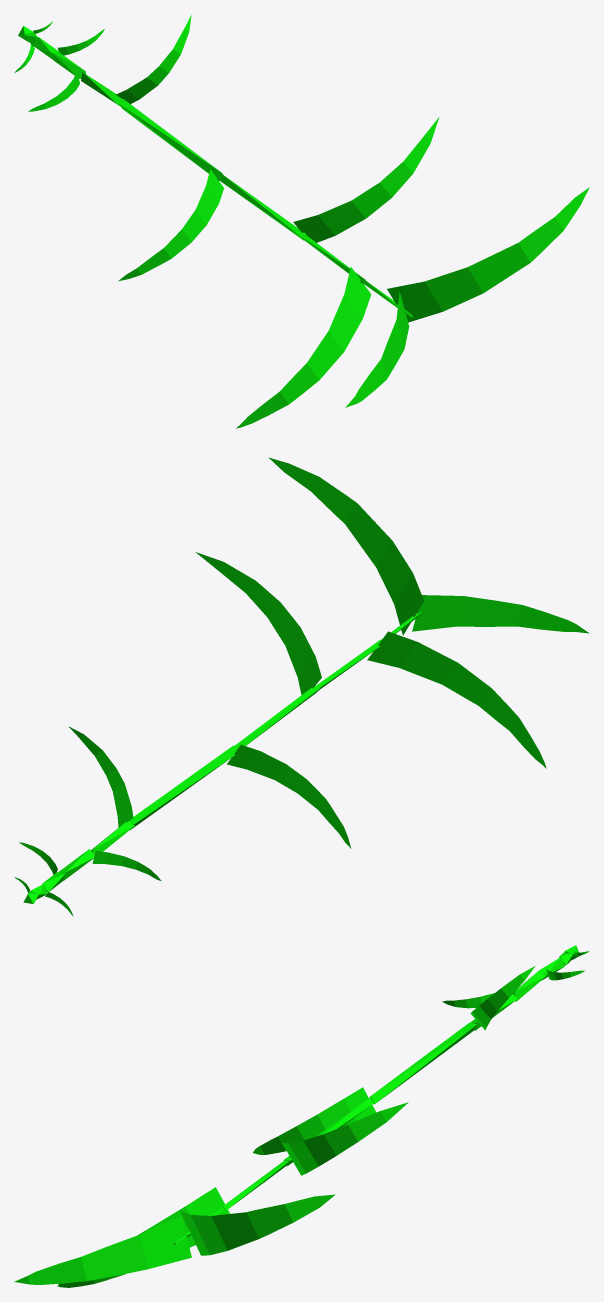
File: usm_12_Beer_2018-09-04_3.obj
The picture shows the model from 3 angles, top to bottom: view 1: azimuth 30°, elevation 25°; view 2: azimuth 150°, elevation 25°; view 3: azimuth 330°, elevation 25°; orthographic projection. The views are drawn at different scales.
Visible parts, largest first — view 1: vid_20, vid_18, vid_16, vid_14, vid_22, vid_12, vid_13, vid_15; view 2: vid_20, vid_18, vid_22, vid_16, vid_14, vid_12, vid_13, vid_15, vid_10; view 3: vid_22, vid_20, vid_16, vid_14, vid_18, vid_13, vid_12, vid_15, vid_17.
Part boxes in pixels (<box>): vid_20: <box>387,187,589,322</box>; vid_18: <box>236,267,371,428</box>; vid_16: <box>293,117,439,242</box>; vid_14: <box>118,169,223,281</box>; vid_22: <box>345,292,409,407</box>; vid_12: <box>116,14,191,104</box>; vid_13: <box>118,101,222,180</box>; vid_15: <box>219,174,306,240</box>; vid_20: <box>268,457,423,635</box>; vid_18: <box>367,631,546,768</box>; vid_22: <box>412,595,589,633</box>; vid_16: <box>195,552,321,694</box>; vid_14: <box>227,744,351,848</box>; vid_12: <box>69,726,133,827</box>; vid_13: <box>128,745,235,829</box>; vid_15: <box>234,686,319,750</box>; vid_10: <box>92,851,161,881</box>; vid_22: <box>14,1216,191,1284</box>; vid_20: <box>180,1194,335,1255</box>; vid_16: <box>282,1102,408,1175</box>; vid_14: <box>253,1087,376,1154</box>; vid_18: <box>57,1187,229,1287</box>; vid_13: <box>370,1022,477,1104</box>; vid_12: <box>470,966,535,1030</box>; vid_15: <box>283,1097,373,1166</box>; vid_17: <box>223,1160,288,1210</box>.
Bounding box in the file's own units: 110 × 65.69 × 263.
